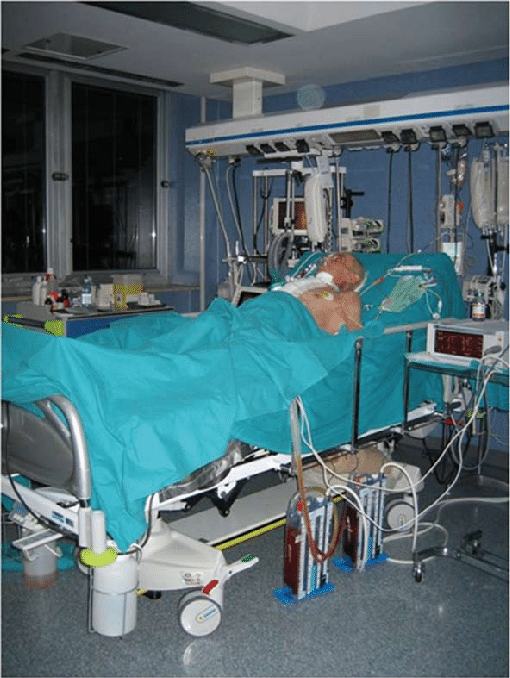bedside_monitor: (423, 316, 510, 374), (270, 196, 330, 240)
foot_board: (1, 383, 92, 514)
hospital_bed: (1, 251, 460, 555)
iv_pole: (464, 133, 510, 319)
patient: (1, 253, 364, 410)
